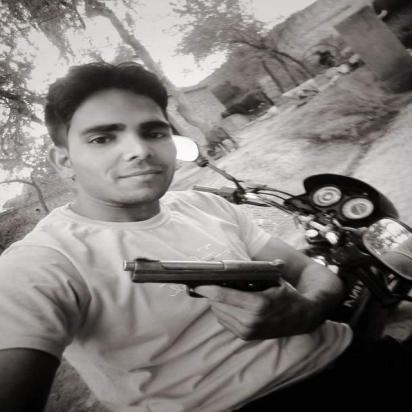Gun: (118, 252, 290, 342)
